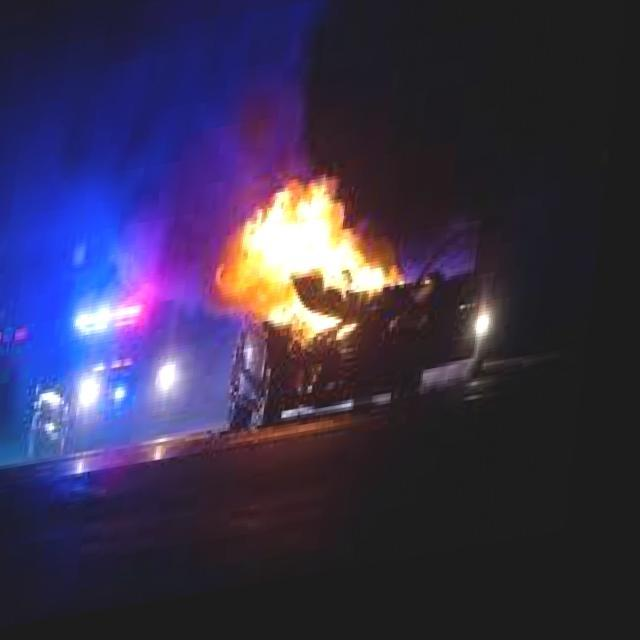Fire: (207, 154, 440, 376)
